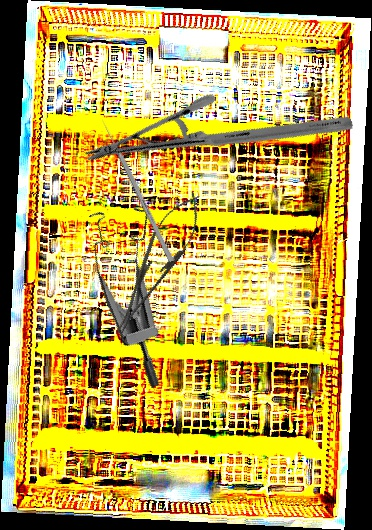Needle Holder: (82, 13, 356, 265), (100, 184, 213, 345)
Pusher: (99, 117, 175, 263)
Speculum: (57, 189, 227, 390)
